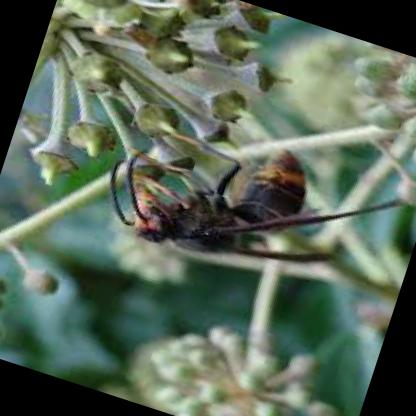asian: (87, 92, 385, 314)
